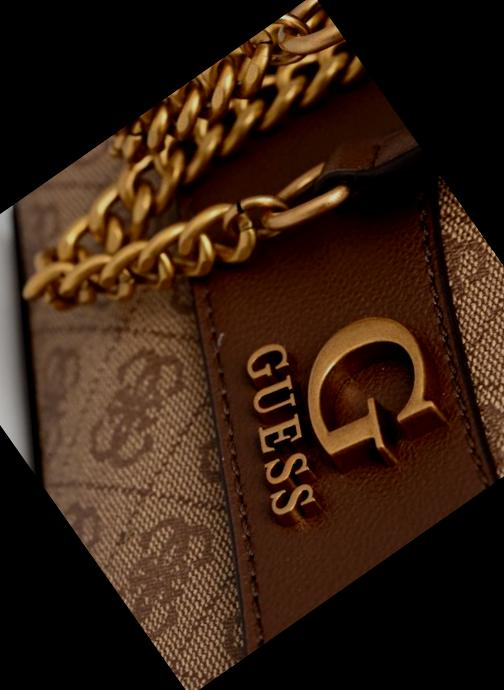GUESS: (186, 333, 368, 527)
